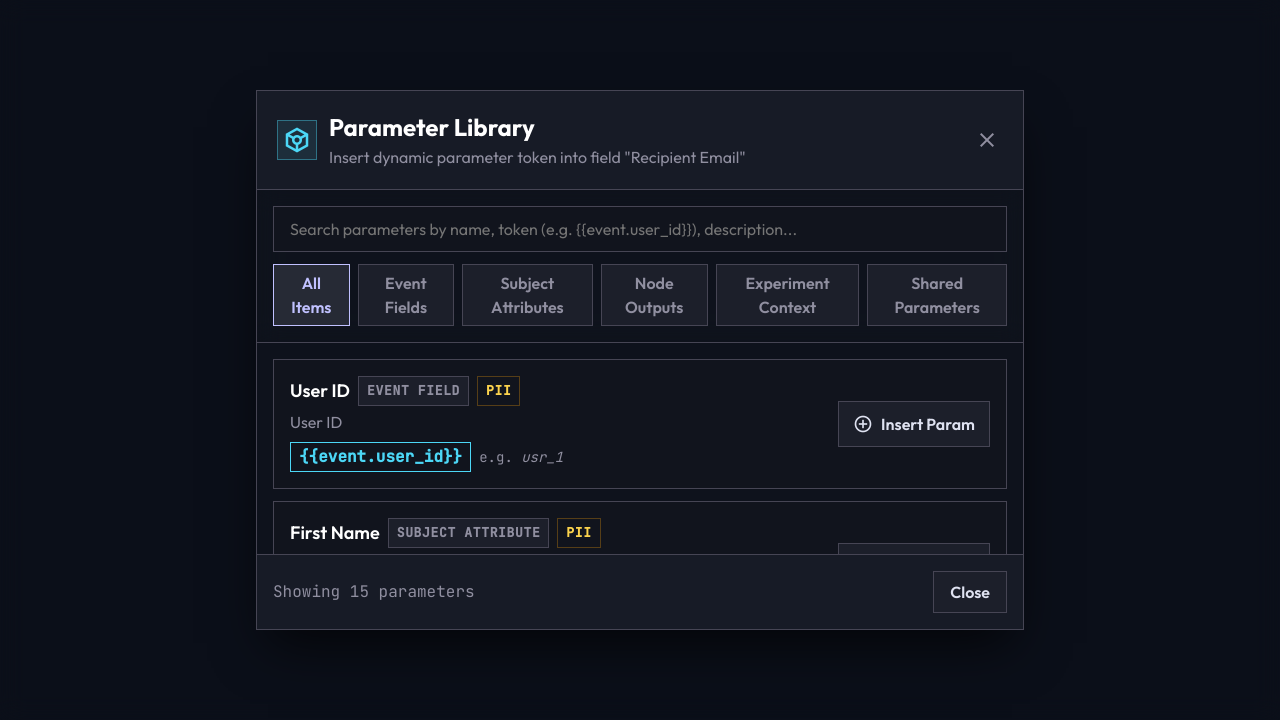
Test: ParameterModal Component › filters parameters by category tabs
Click the tab with test id "param-category-tab-subject": click(527, 295) [462,264,593,326]
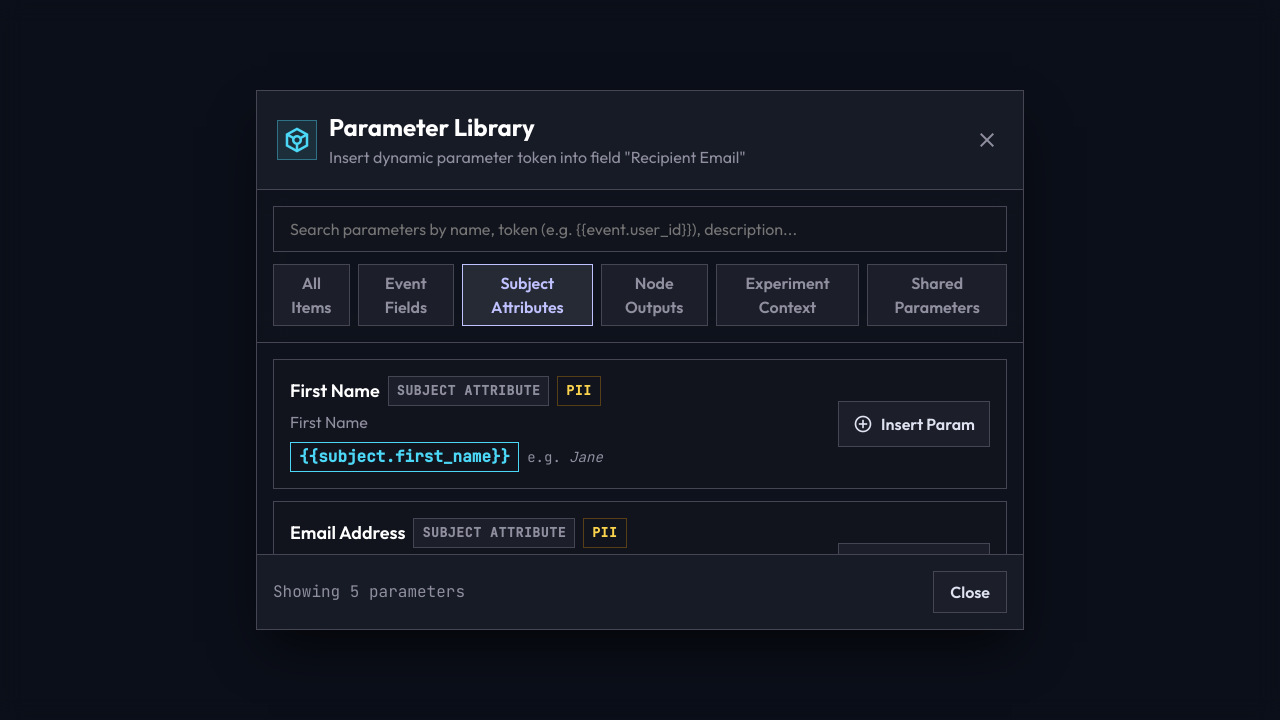
Expected: the element with test id "param-item-user_id" is gone
Click the tab with test id "param-category-tab-experiment": click(788, 295) [716,264,859,326]
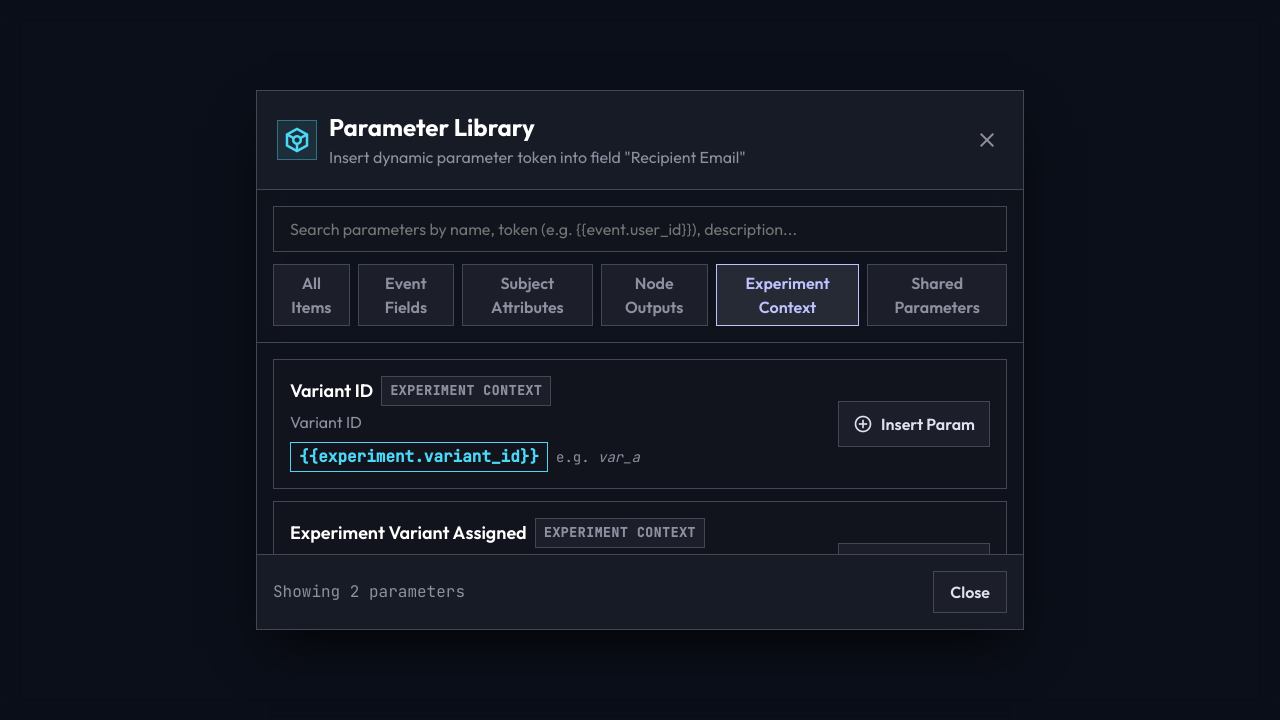
Expected: the element with test id "param-item-variant_id" is shown, [273,359,1007,489]
Expected: the element with test id "param-item-email" is gone
